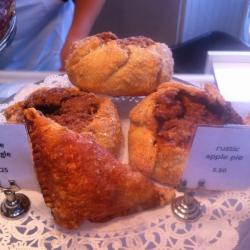apple_pie: (17, 110, 186, 231), (126, 77, 241, 195), (60, 25, 177, 102)
